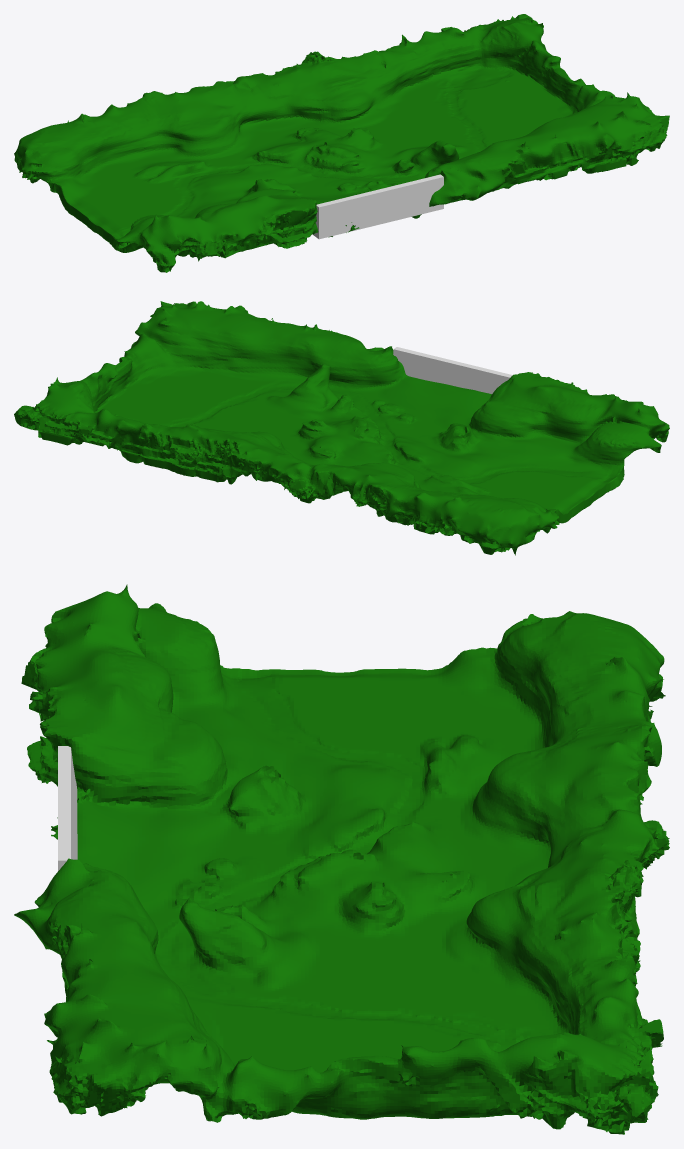
Rendered from valhalla.fbx.
3 views of the same model, one above another, from view 1: azimuth 30°, elevation 25°; view 2: azimuth 150°, elevation 25°; view 3: azimuth 270°, elevation 25° (orthographic). The views are drawn at different scales.
Visible parts, largest first — view 1: Plane, Cube; view 2: Plane, Cube; view 3: Plane, Cube.
Boxes of the visible parts, box(x1,y1,x2,y2) form: Plane: box(14, 14, 669, 272); Cube: box(313, 174, 443, 239); Plane: box(14, 301, 669, 555); Cube: box(393, 347, 512, 393); Plane: box(14, 584, 669, 1134); Cube: box(58, 746, 77, 870).
Size of the model in its own units: 3189 by 331 by 1771.
